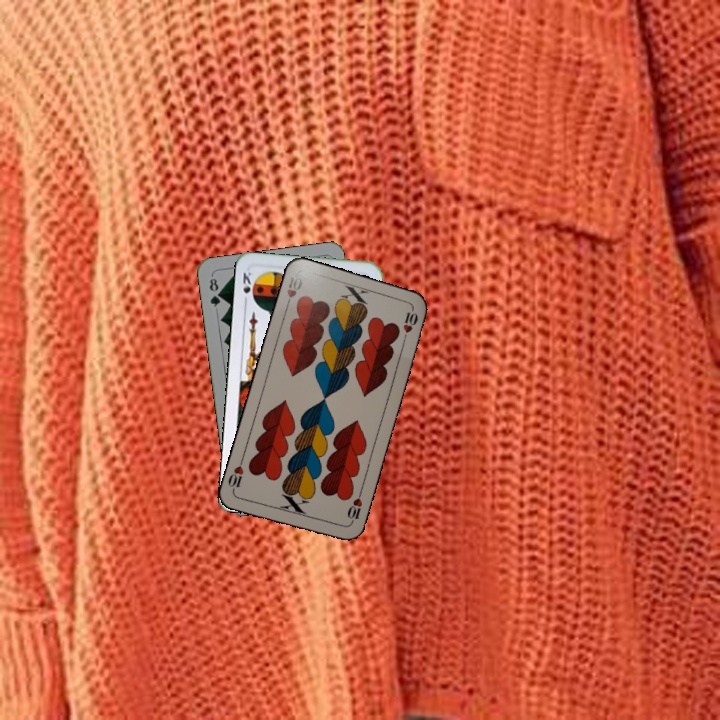G8: (205, 274, 223, 310)
H10: (343, 487, 365, 527), (282, 273, 305, 311)
SK: (239, 268, 254, 307)
